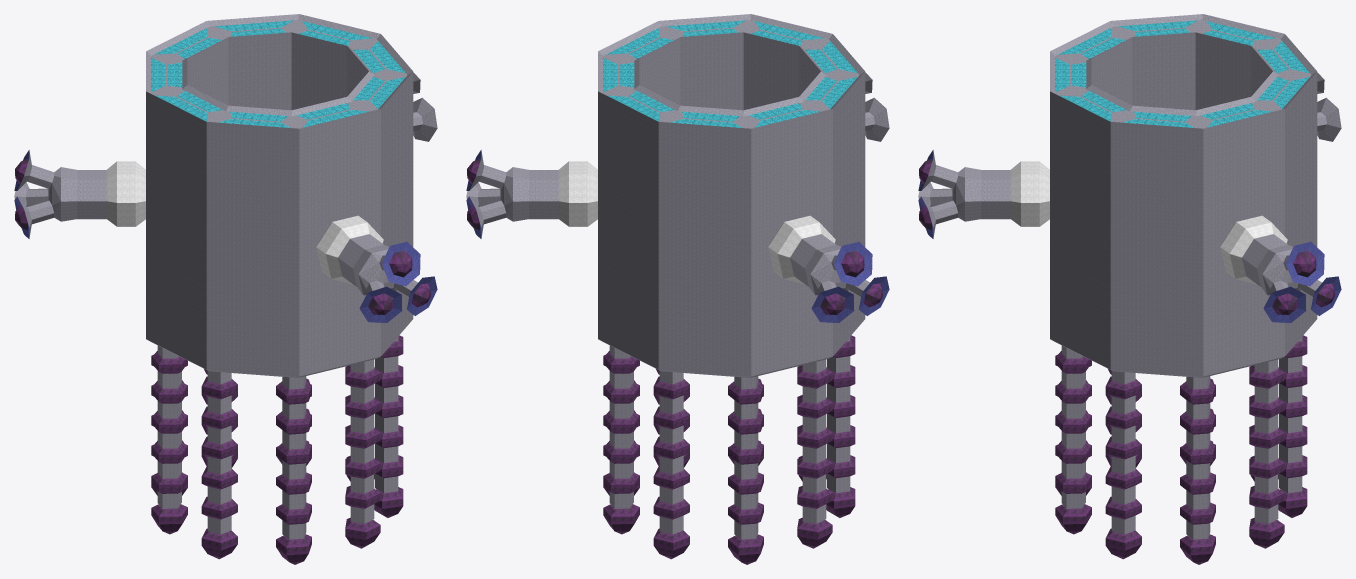
The model's file is Orthoclase.fbx.
The picture shows the model from 3 angles, left to right: view 1: azimuth 30°, elevation 25°; view 2: azimuth 150°, elevation 25°; view 3: azimuth 270°, elevation 25°; orthographic projection.
Parts seen in each view (by area): view 1: outter ring, Levitator Arm 2.2_selection, Arm_7, Arm_5, Arm_6, Arm_8, Arm_4, Lower Crystal_6, Lower Crystal_4, Lower Crystal_7, Lower Crystal_5, Lower Crystal_3 (+20 smaller); view 2: outter ring, Levitator Arm 2.2_selection, Arm, Arm_8, Arm_9, Arm_2, Arm_7, Lower Crystal, Lower Crystal_7, Lower Crystal_1, Lower Crystal_8, Lower Crystal_6 (+20 smaller); view 3: outter ring, Levitator Arm 2.2_selection, Arm_4, Arm_2, Arm_3, Arm_5, Arm, Lower Crystal_3, Lower Crystal_1, Lower Crystal_4, Lower Crystal_2, Lower Crystal (+20 smaller).
Boxes of the visible parts, x1,y1,x2,y2 form: outter ring: [146, 14, 413, 377]; Levitator Arm 2.2_selection: [14, 72, 437, 322]; Arm_7: [207, 371, 231, 534]; Arm_5: [350, 359, 374, 523]; Arm_6: [282, 376, 306, 539]; Arm_8: [157, 345, 181, 508]; Arm_4: [375, 337, 398, 493]; Lower Crystal_6: [201, 528, 237, 559]; Lower Crystal_4: [345, 517, 380, 548]; Lower Crystal_7: [151, 504, 187, 534]; Lower Crystal_5: [276, 534, 311, 564]; Lower Crystal_3: [374, 487, 403, 517]; outter ring: [598, 14, 865, 377]; Levitator Arm 2.2_selection: [466, 72, 889, 322]; Arm: [659, 371, 683, 534]; Arm_8: [802, 359, 826, 523]; Arm_9: [734, 376, 758, 539]; Arm_2: [609, 345, 633, 508]; Arm_7: [827, 337, 850, 493]; Lower Crystal: [653, 528, 689, 559]; Lower Crystal_7: [797, 517, 832, 548]; Lower Crystal_1: [603, 504, 639, 534]; Lower Crystal_8: [728, 534, 763, 564]; Lower Crystal_6: [826, 487, 855, 517]; outter ring: [1050, 14, 1317, 377]; Levitator Arm 2.2_selection: [918, 72, 1341, 322]; Arm_4: [1111, 371, 1135, 534]; Arm_2: [1254, 359, 1278, 523]; Arm_3: [1186, 376, 1210, 539]; Arm_5: [1061, 345, 1085, 508]; Arm: [1279, 337, 1302, 493]; Lower Crystal_3: [1105, 528, 1141, 559]; Lower Crystal_1: [1249, 517, 1284, 548]; Lower Crystal_4: [1055, 504, 1091, 534]; Lower Crystal_2: [1180, 534, 1215, 564]; Lower Crystal: [1278, 487, 1307, 517].
Size of the model in its own units: 230 by 238 by 204.
